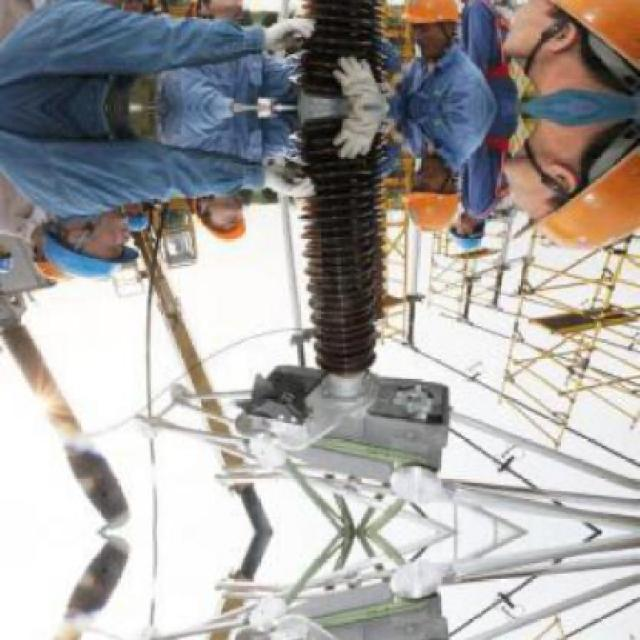con casco: (486, 140, 610, 261), (30, 198, 144, 289)
